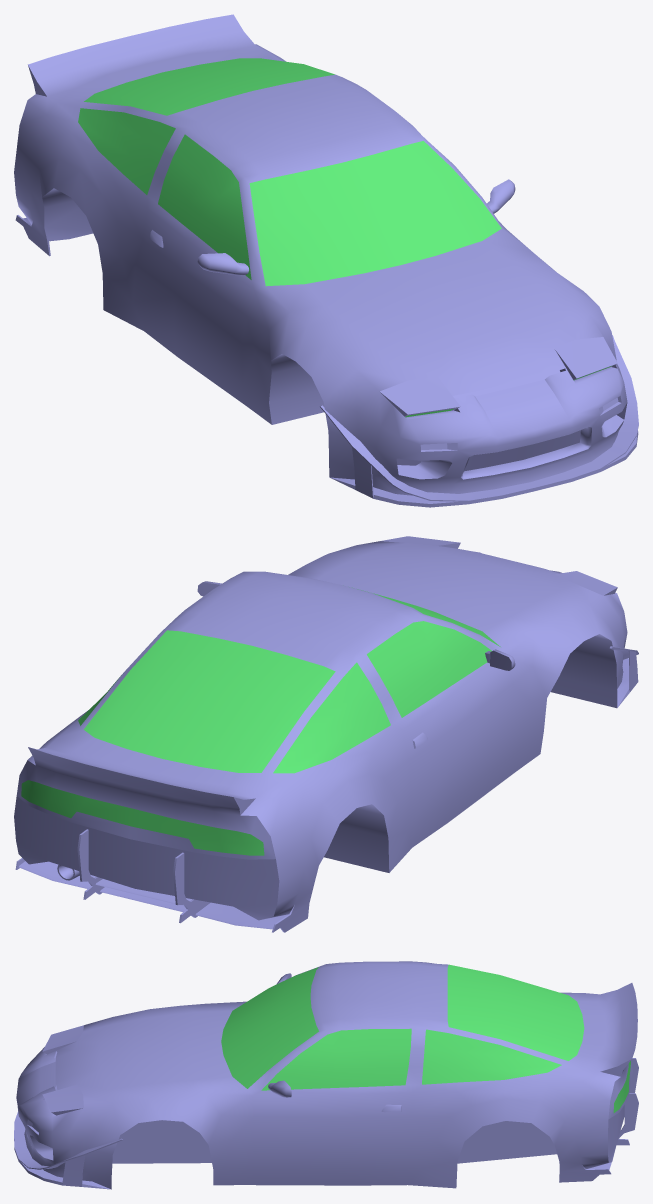
The model's file is Nissan 180sx.fbx.
3 views of the same model, one above another, from view 1: azimuth 30°, elevation 25°; view 2: azimuth 150°, elevation 25°; view 3: azimuth 270°, elevation 25° (orthographic). The views are drawn at different scales.
Visible parts, largest first — view 1: Nissan180sx; view 2: Nissan180sx; view 3: Nissan180sx.
Part boxes in pixels (box(x1,y1,x2,y2)): Nissan180sx: box(14, 14, 638, 507); Nissan180sx: box(14, 536, 638, 932); Nissan180sx: box(14, 961, 638, 1189).
Size of the model in its own units: 217 by 129 by 492.
